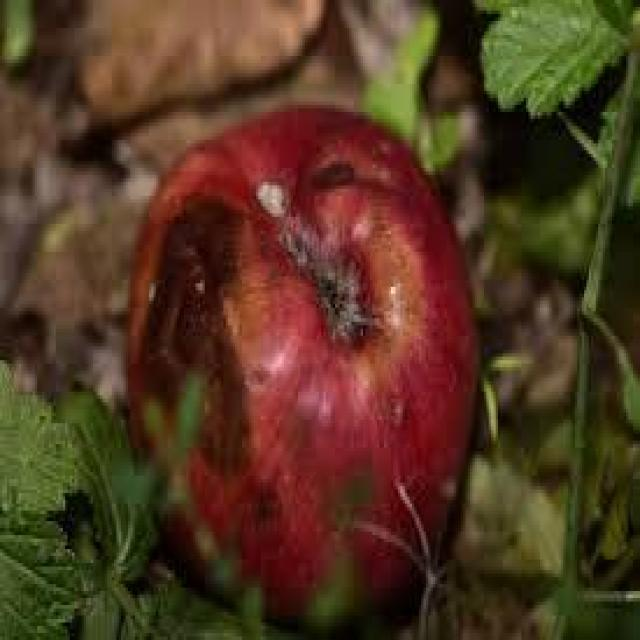maca: (123, 98, 480, 619)
